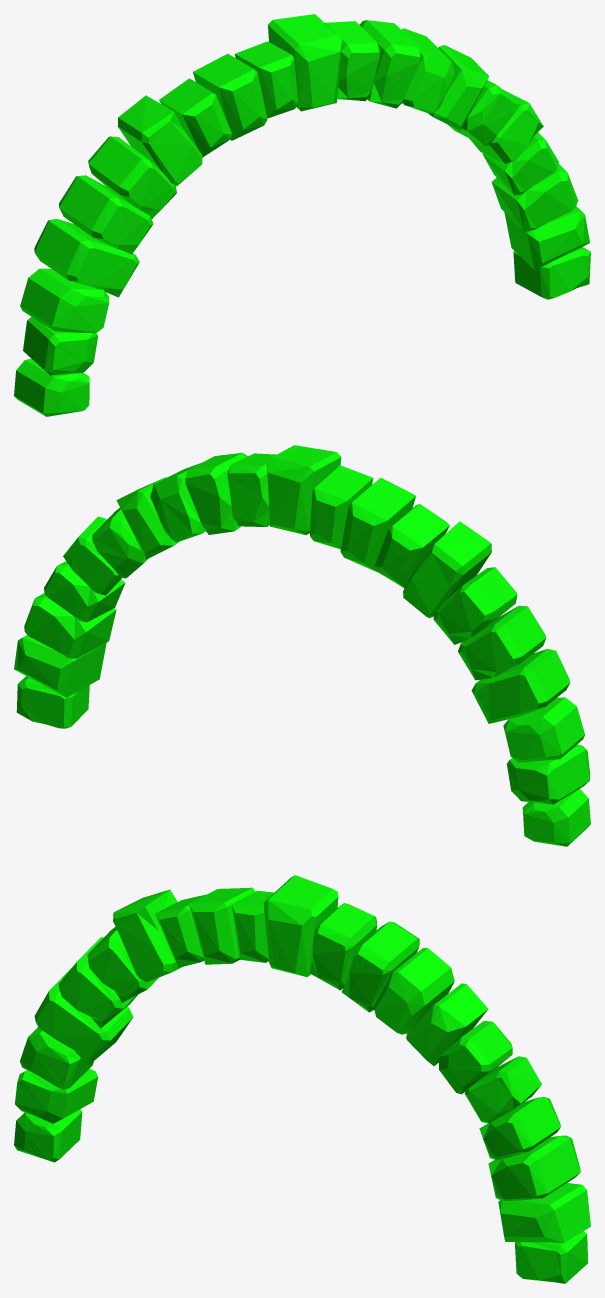
Rendered from SM_Arch_Curve_Stone_Fantasy.fbx.
3 views of the same model, one above another, from view 1: azimuth 30°, elevation 25°; view 2: azimuth 150°, elevation 25°; view 3: azimuth 330°, elevation 25° (orthographic).
Parts seen in each view (by area): view 1: arch-curve-stone-fantasy; view 2: arch-curve-stone-fantasy; view 3: arch-curve-stone-fantasy.
Part boxes in pixels (bbox=[...]): arch-curve-stone-fantasy: bbox=[14, 14, 590, 416]; arch-curve-stone-fantasy: bbox=[14, 445, 590, 846]; arch-curve-stone-fantasy: bbox=[14, 875, 590, 1283].
Bounding box in the file's own units: 4.29 × 2.39 × 0.5074.
